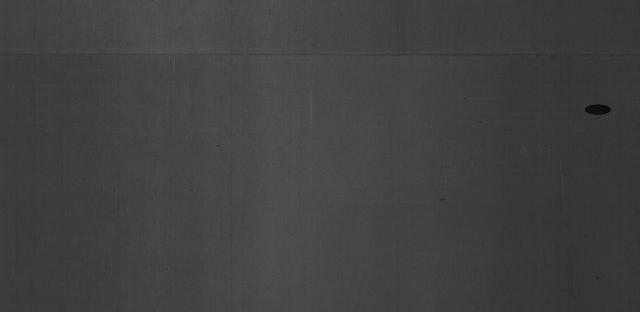punching_hole: (582, 102, 614, 119)
welding_line: (3, 45, 635, 66)
